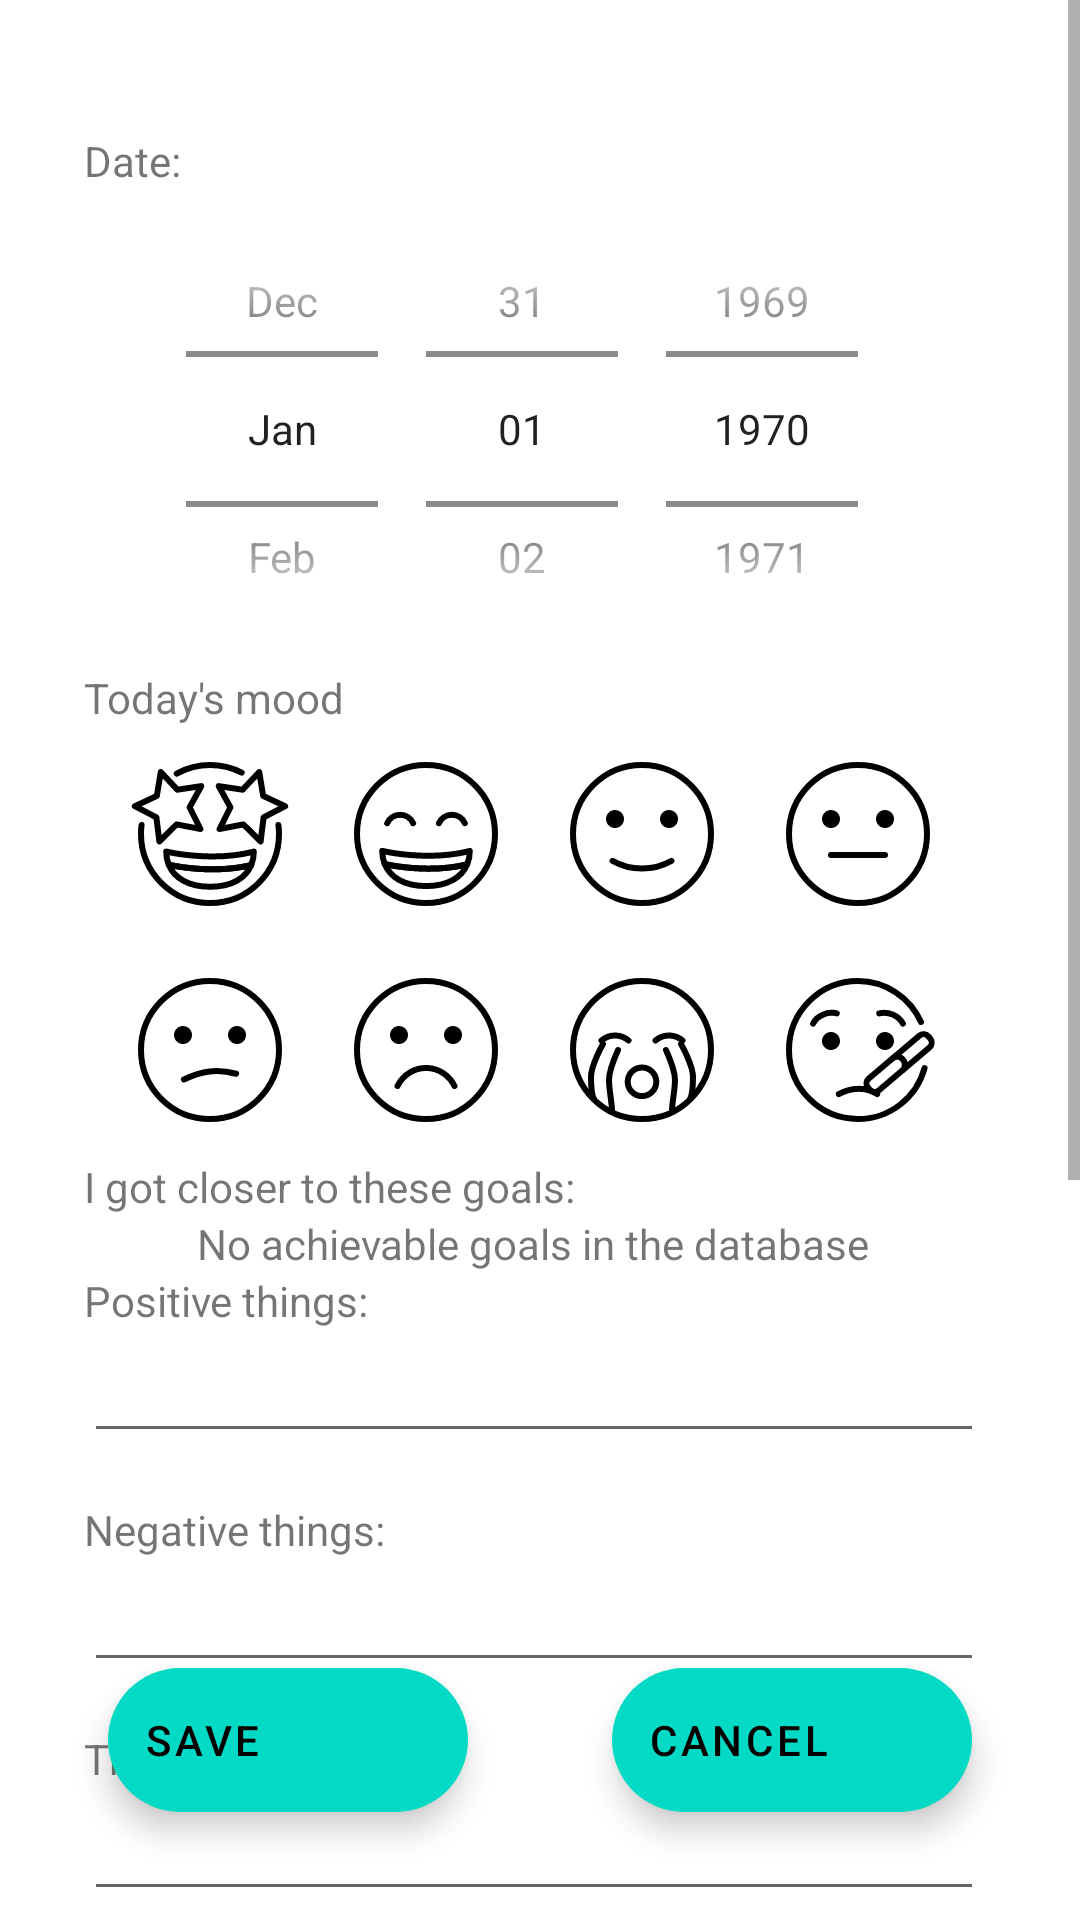

Icon bounding boxes for this 1080 × 1920 phone screenshot, format (x1, y1, x2, y2):
awesome: (131, 762, 289, 906)
good: (570, 762, 714, 906)
happy: (354, 762, 498, 906)
moody: (138, 978, 282, 1122)
neutral: (786, 762, 930, 906)
sad: (354, 978, 498, 1122)
sick: (786, 978, 935, 1122)
terrible: (570, 978, 714, 1122)
